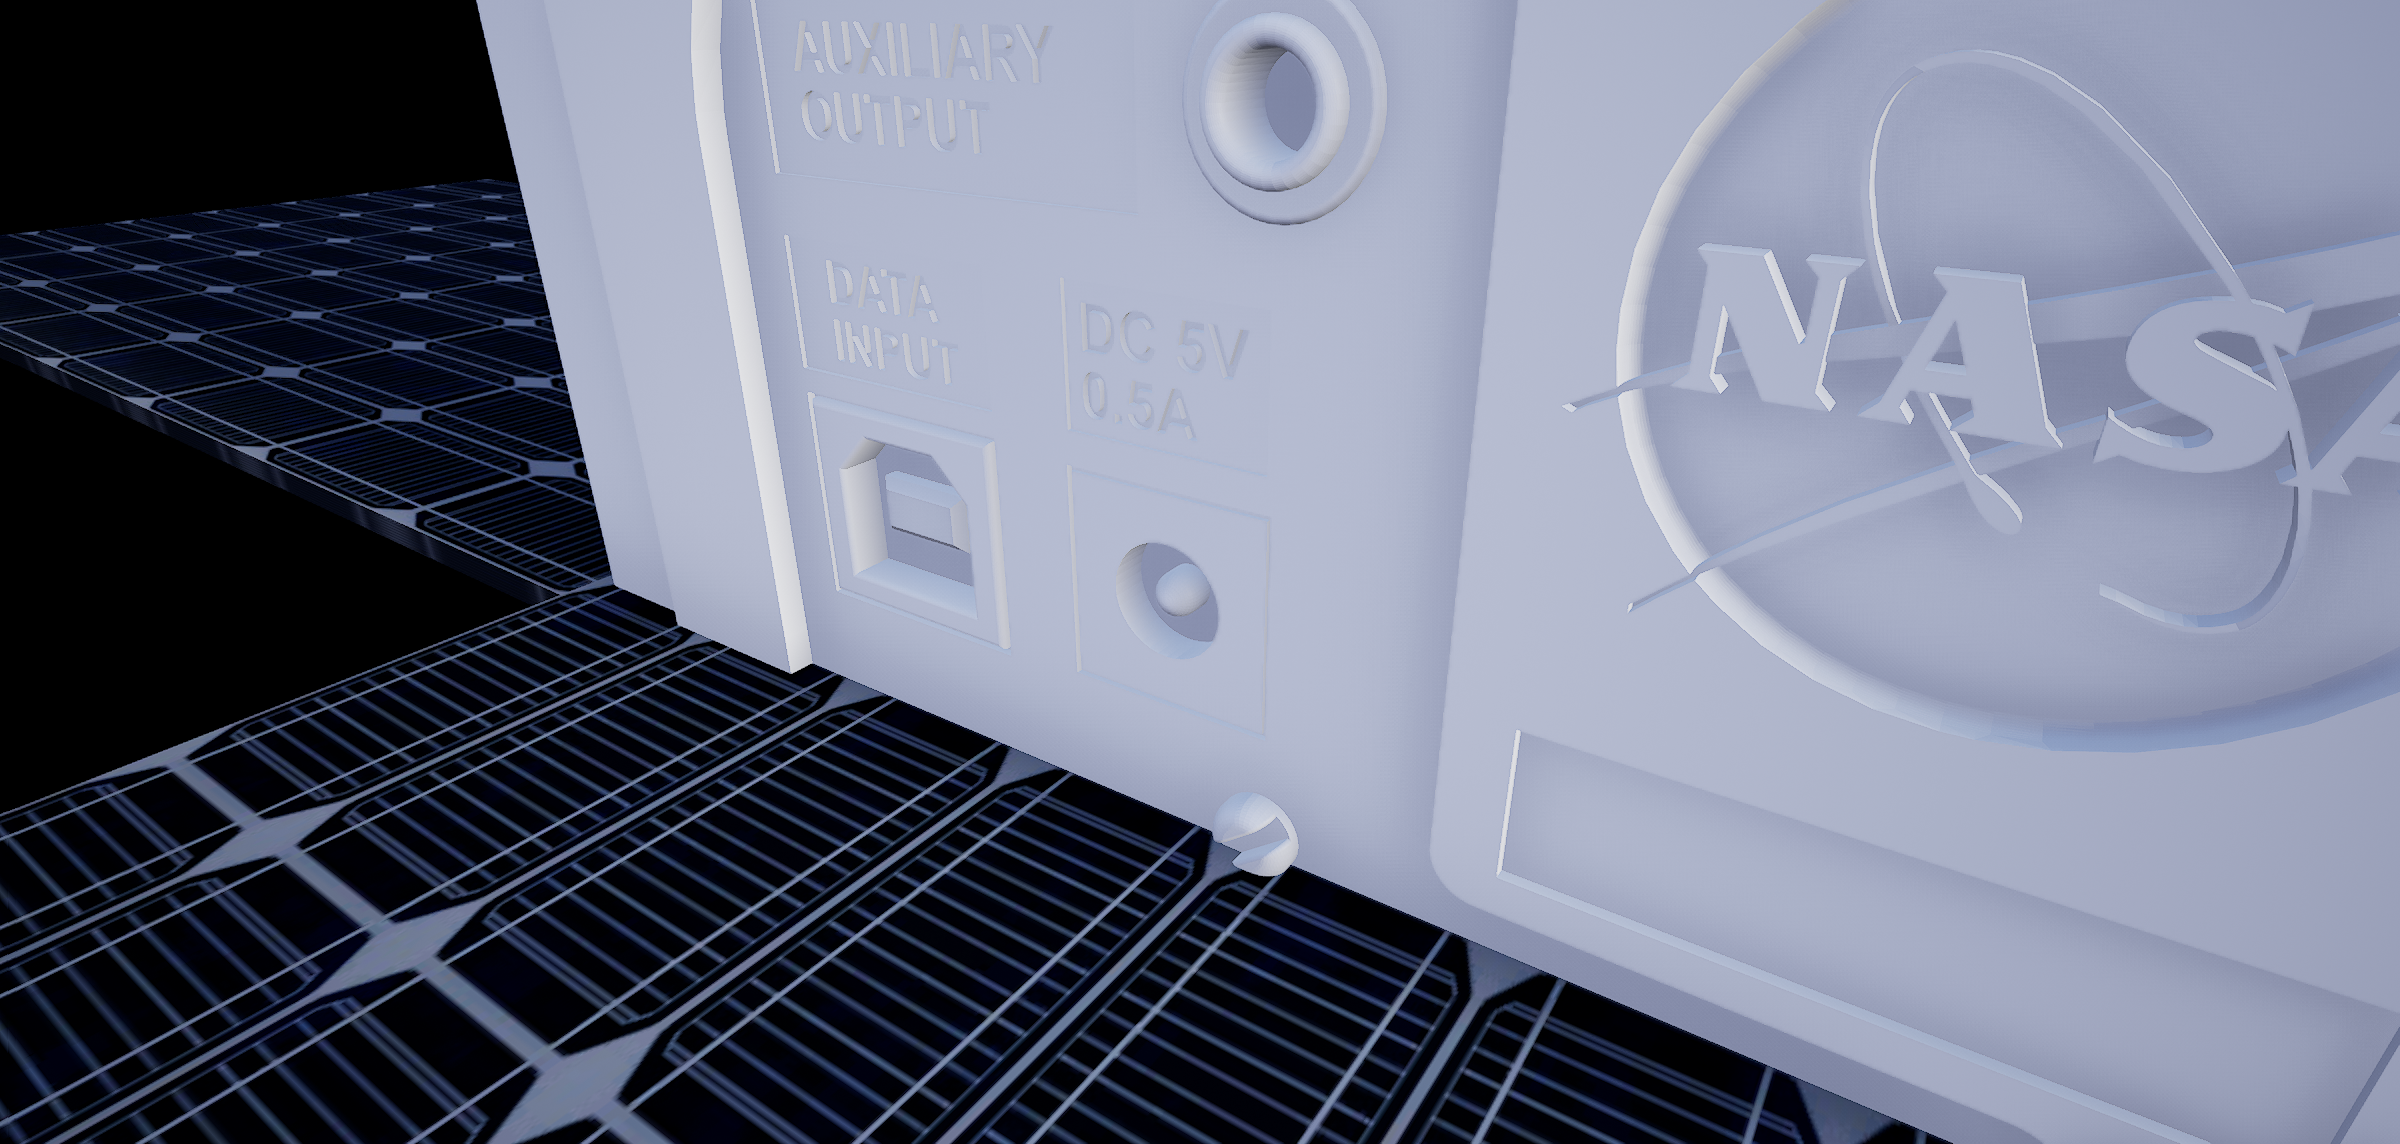aux: (1182, 2, 1401, 239)
dc: (1099, 528, 1244, 681)
usb: (830, 429, 990, 632)
